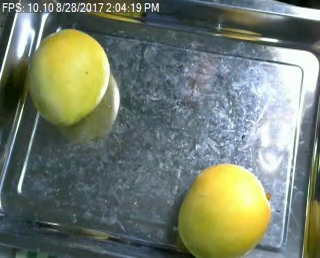Mango: (23, 21, 116, 130), (173, 158, 270, 256)
